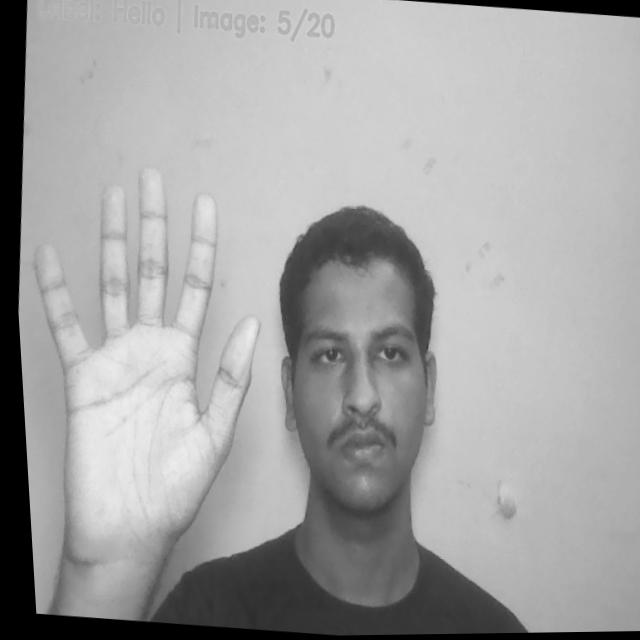Hello: (7, 153, 288, 567)
